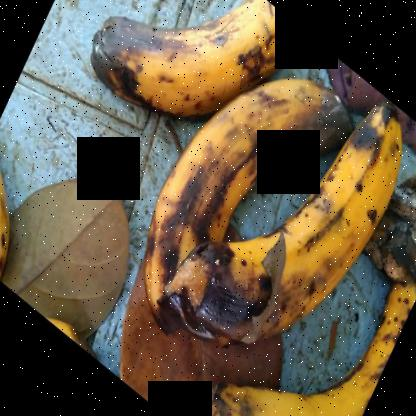rotten: (166, 101, 410, 374), (126, 68, 343, 325), (74, 1, 308, 118)
